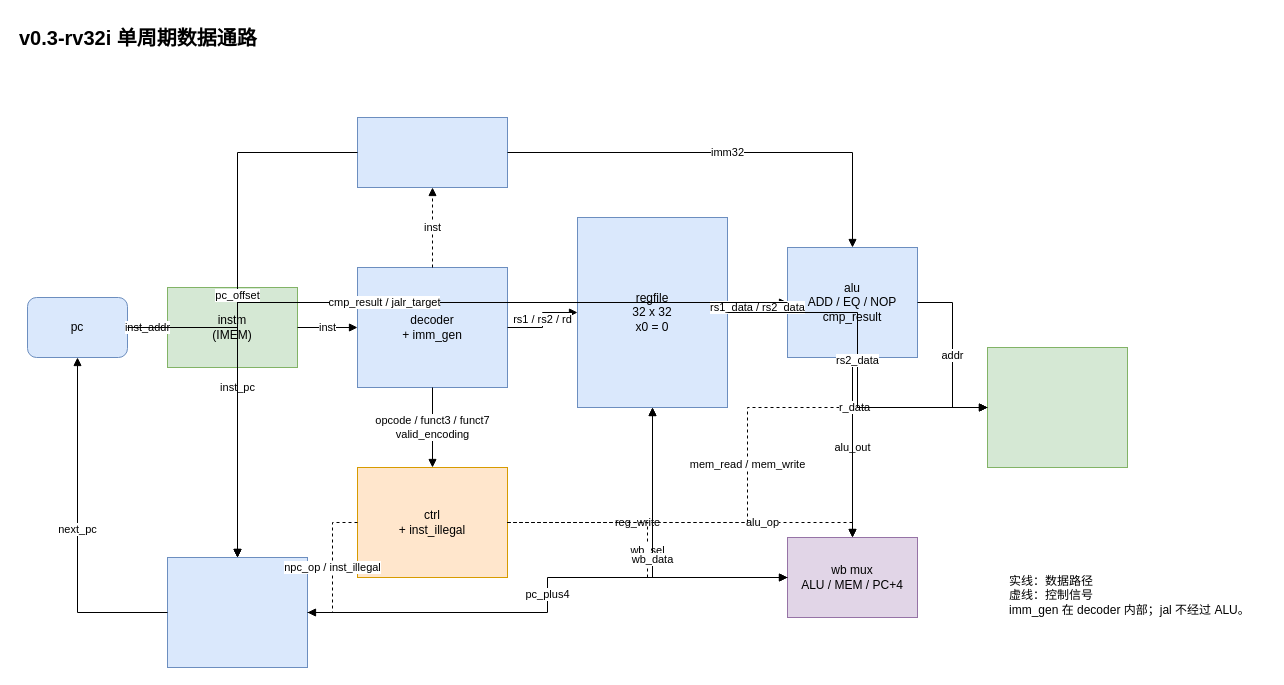
This 1284x685 diagram has some shape labels left out. The centre of each missing label's shape, as x and y in pixels:
"datam (DMEM) word access" belongs at pixel 1057 407.
"imm_gen I / S / B / J" belongs at pixel 432 152.
"npc PLUS4 / BRANCH JAL / JALR illegal -> hold" belongs at pixel 237 612.
